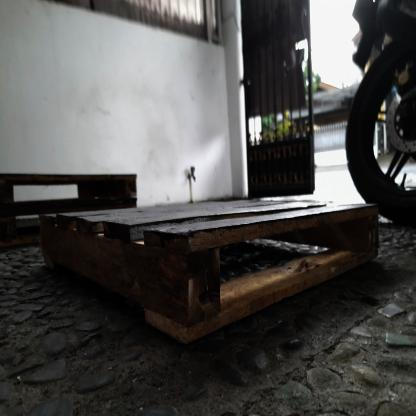Wooden-Pallet: (35, 196, 386, 353)
